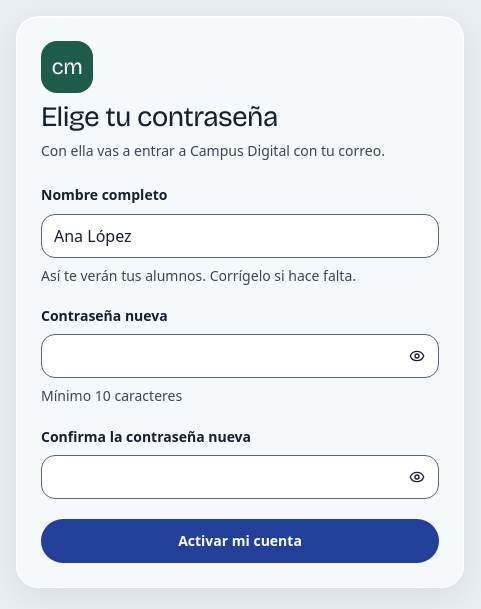
Test case: EstablecerContrasenaView › con ENLACE_INVALIDO al enviar, muestra el mensaje de enlace vencido
Check: the button "Activar mi cuenta" is shown, box [41,519,439,563]
In the password field labelled "Contraseña nueva": (240,356) [41,334,439,378], type "clave-nueva-1234"
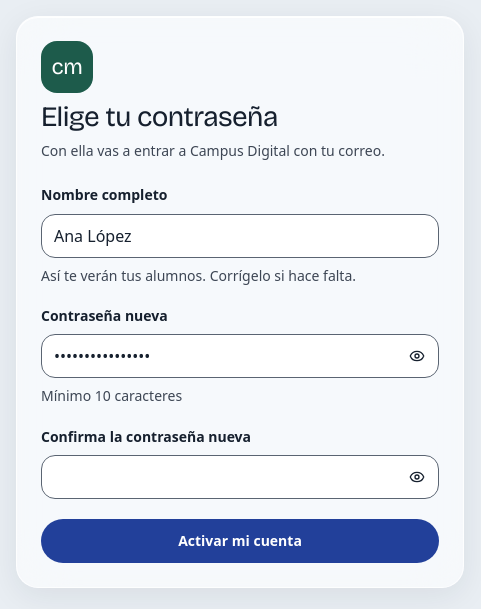
In the password field labelled "Confirma la contraseña nueva": (240,477) [41,455,439,499], type "clave-nueva-1234"
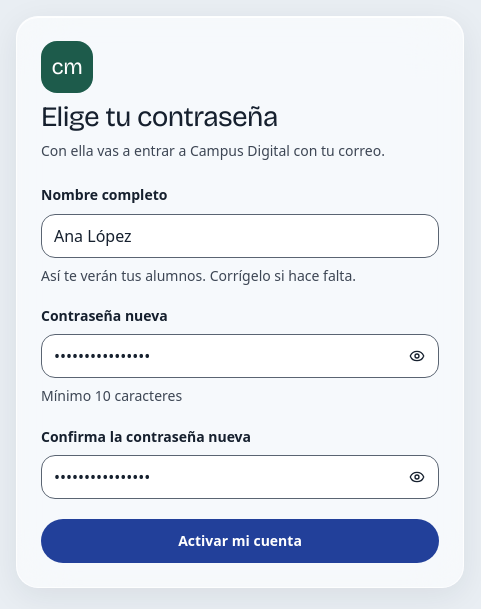
Click the button "Activar mi cuenta": (240,541) [41,519,439,563]
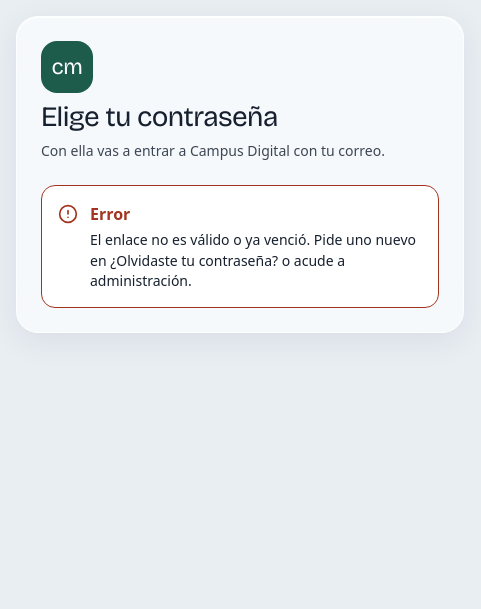
Check: the text "El enlace no es válido o ya venció. Pide uno nuevo en ¿Olvidaste tu contraseña? o acude a administración." is shown, box [90,230,416,290]
